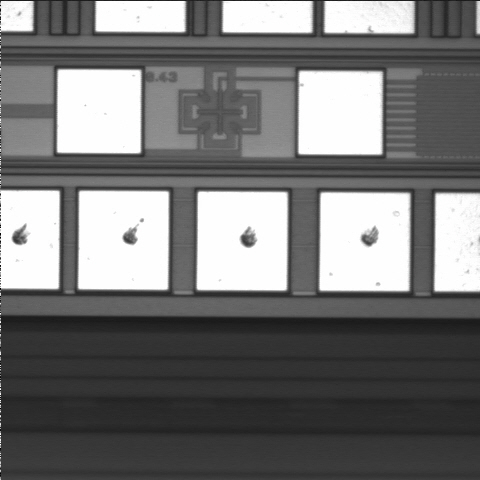pad: (78, 191, 169, 290), (197, 192, 287, 290), (320, 193, 410, 291), (57, 70, 141, 153), (299, 71, 382, 154)
